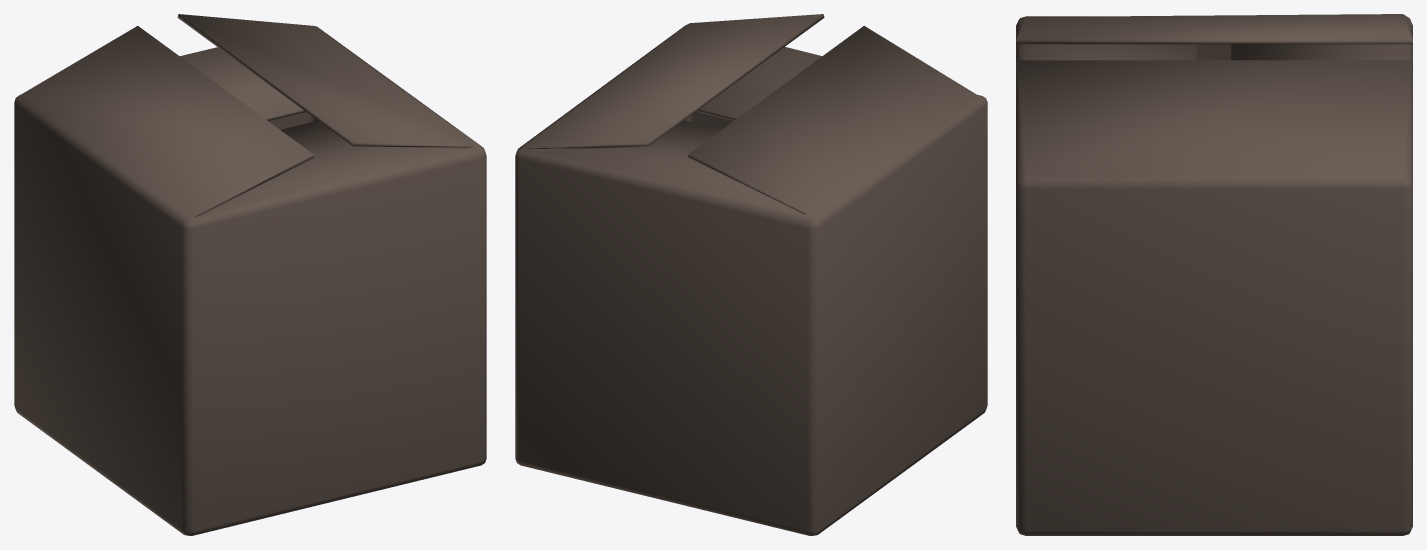
The model's file is Gift_base.fbx.
3 views of the same model, side by side, from view 1: azimuth 30°, elevation 25°; view 2: azimuth 150°, elevation 25°; view 3: azimuth 270°, elevation 25° (orthographic). The views are drawn at different scales.
Visible parts, largest first — view 1: Cube; view 2: Cube; view 3: Cube.
Boxes of the visible parts, x1=… form: Cube: x1=14, y1=14, x2=486, y2=535; Cube: x1=515, y1=14, x2=987, y2=535; Cube: x1=1016, y1=14, x2=1412, y2=535.
Size of the model in its own units: 200 by 225 by 200.
